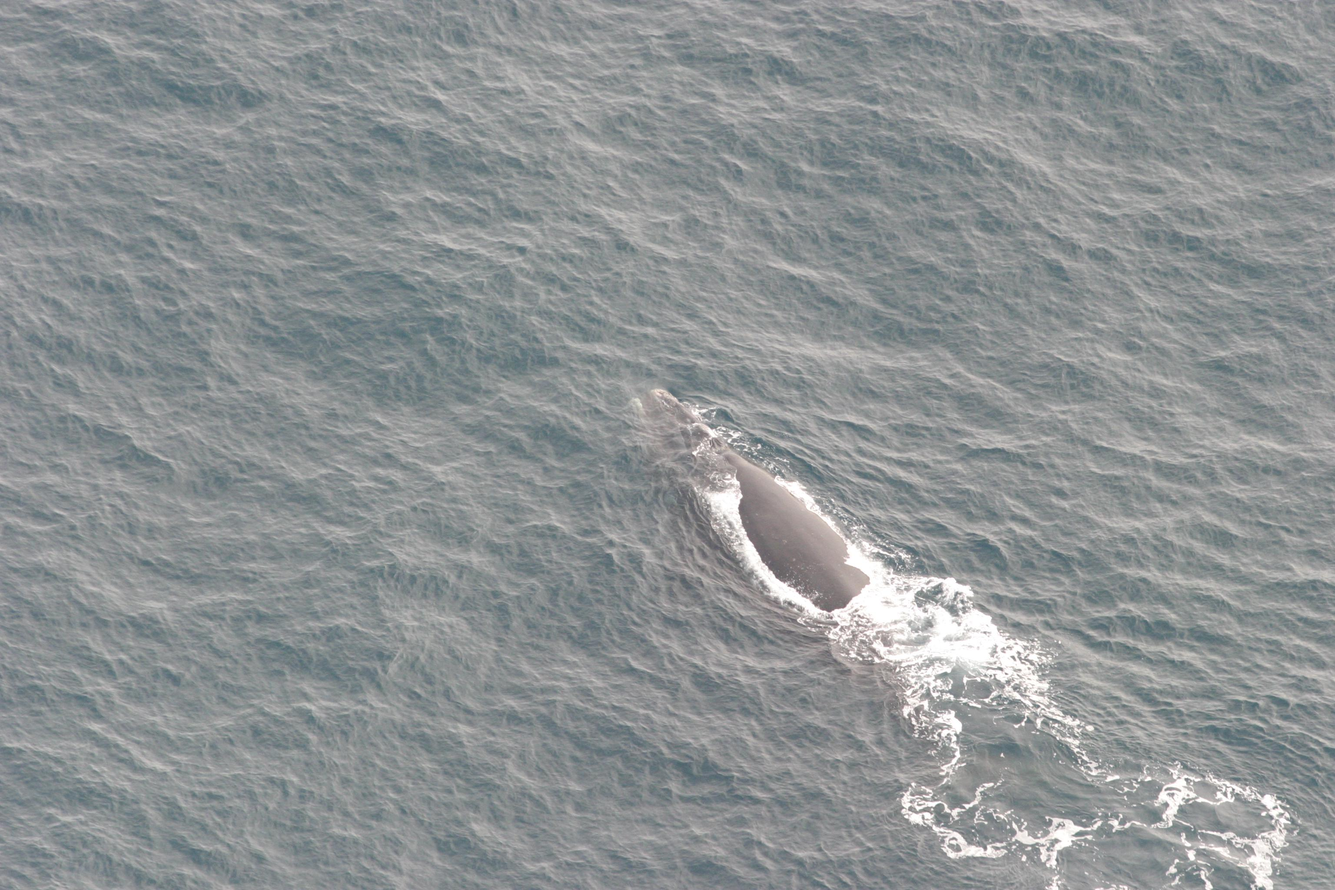whale: (617, 379, 1002, 713)
